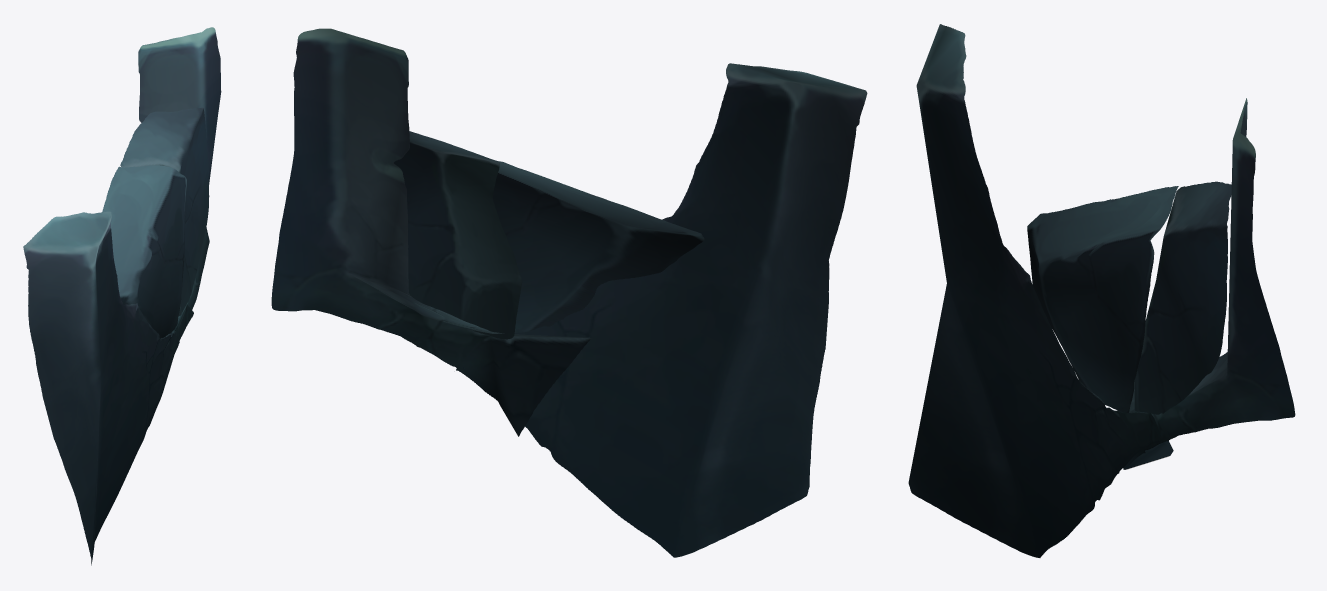
File: Dark Forest Wall.FBX
3 renders of one model, left to right at view 1: azimuth 30°, elevation 25°; view 2: azimuth 150°, elevation 25°; view 3: azimuth 270°, elevation 25°, orthographic. The views are drawn at different scales.
Visible parts, largest first — view 1: Wall; view 2: Wall; view 3: Wall.
Boxes of the visible parts, x1,y1,x2,y2 form: Wall: (23,27,221,565); Wall: (271,28,867,557); Wall: (908,24,1295,557).
Size of the model in its own units: 515 by 416 by 648.
